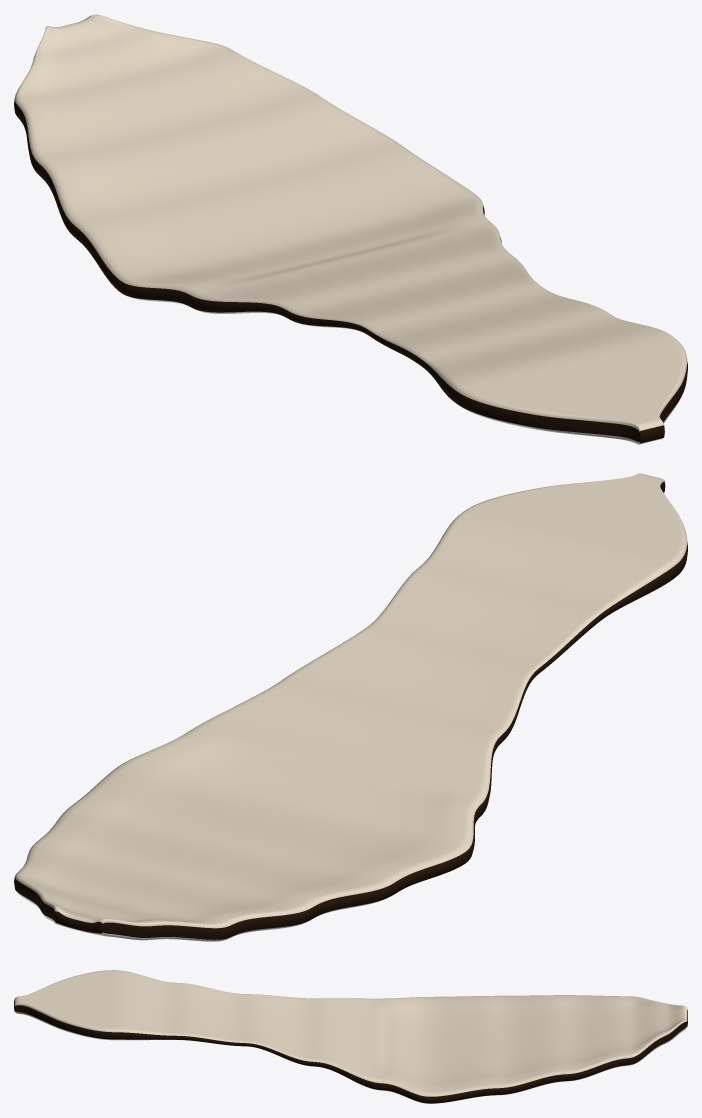
Rendered from Piece_04_Outsole.glb.
The picture shows the model from 3 angles, top to bottom: view 1: azimuth 30°, elevation 25°; view 2: azimuth 150°, elevation 25°; view 3: azimuth 270°, elevation 25°; orthographic projection. The views are drawn at different scales.
Visible parts, largest first — view 1: Piece_04_Outsole_OakBark; view 2: Piece_04_Outsole_OakBark; view 3: Piece_04_Outsole_OakBark.
Part boxes in pixels (x1=…): Piece_04_Outsole_OakBark: x1=14, y1=14, x2=687, y2=444; Piece_04_Outsole_OakBark: x1=14, y1=473, x2=687, y2=941; Piece_04_Outsole_OakBark: x1=14, y1=970, x2=687, y2=1103.
Bounding box in the file's own units: 0.1036 × 0.0262 × 0.2938.
